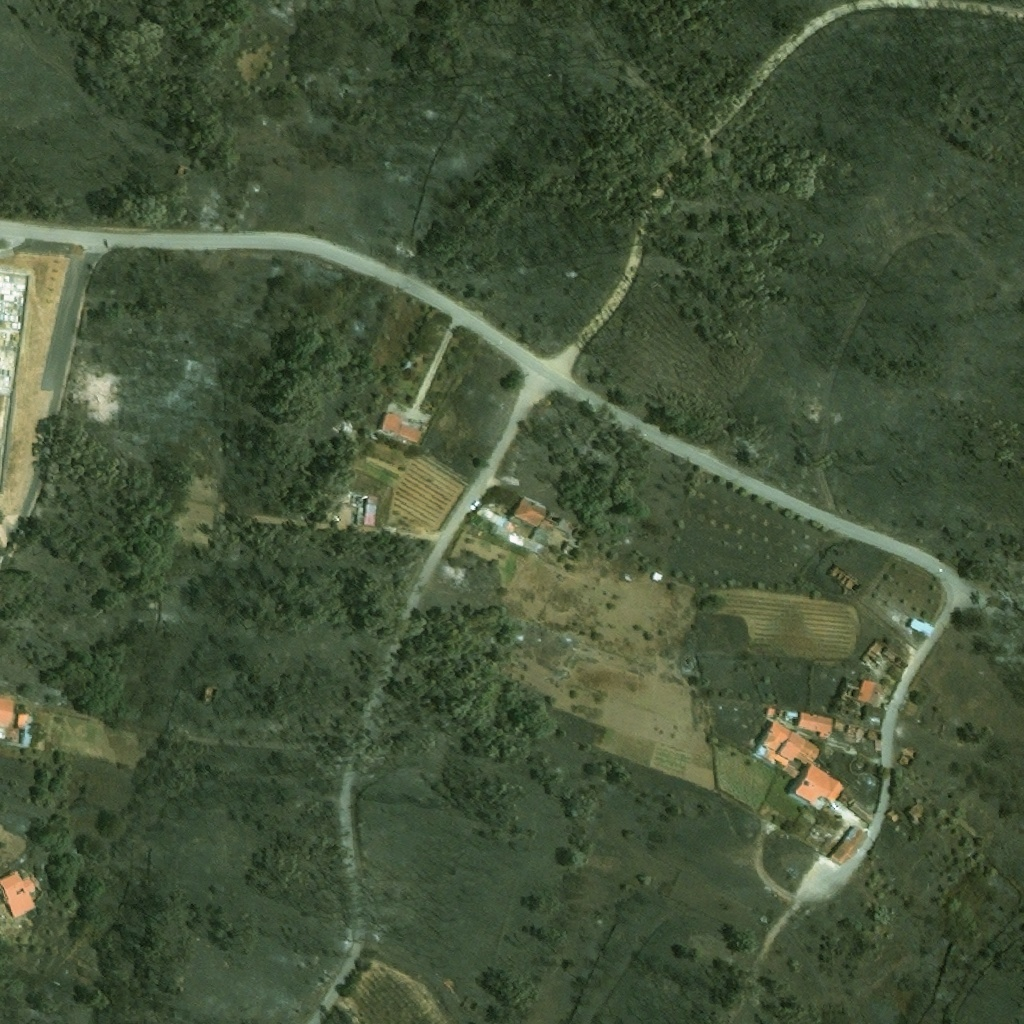0 no-damage: (795, 763, 846, 804), (777, 730, 820, 763), (381, 413, 421, 443), (1, 711, 31, 746), (860, 679, 889, 714), (760, 720, 791, 752), (755, 743, 791, 768), (798, 712, 833, 737), (11, 870, 41, 895), (475, 504, 506, 528), (848, 799, 874, 823), (530, 526, 554, 548), (910, 619, 935, 638), (0, 696, 14, 725), (650, 571, 662, 583)
2 major-damage: (513, 498, 564, 532)
3 destroyed: (810, 660, 844, 713), (862, 638, 912, 672), (833, 718, 882, 751), (831, 825, 868, 866), (830, 564, 864, 595), (354, 495, 378, 529), (840, 678, 860, 715), (506, 532, 537, 552), (764, 707, 798, 723), (339, 421, 364, 442), (809, 820, 832, 842), (180, 723, 201, 747), (399, 349, 419, 374), (897, 745, 918, 768), (907, 803, 925, 821), (886, 808, 901, 823), (12, 923, 24, 934)
4 un-classified: (65, 250, 78, 267)
